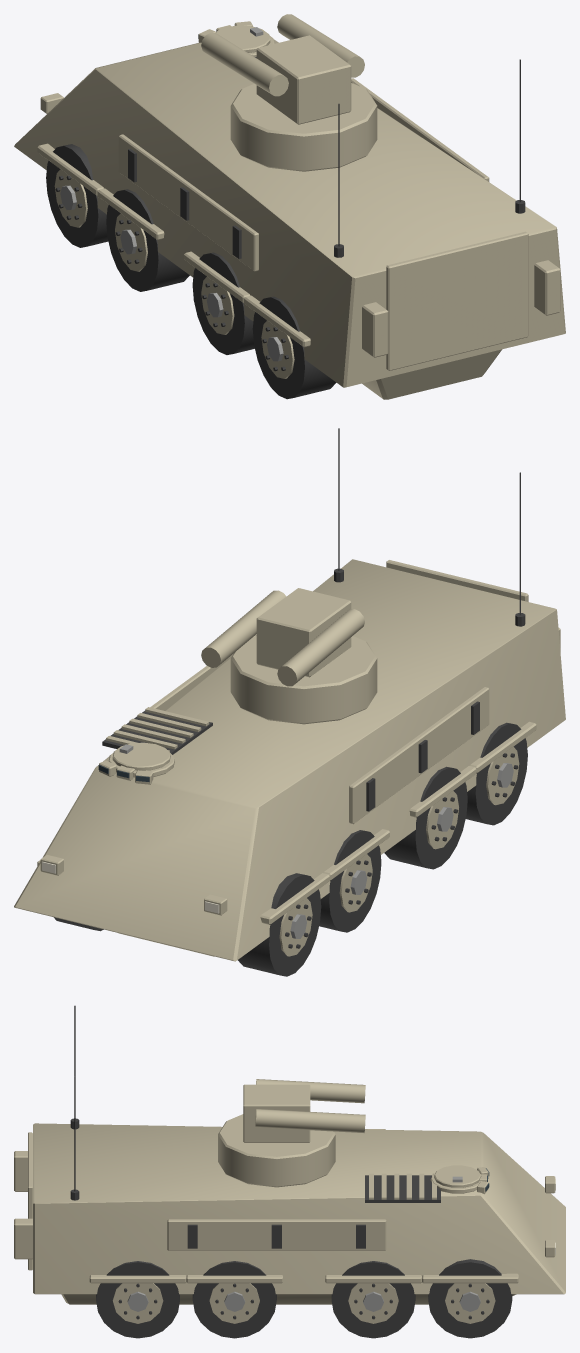
File: usa_td_lavat.glb
The picture shows the model from 3 angles, top to bottom: view 1: azimuth 30°, elevation 25°; view 2: azimuth 150°, elevation 25°; view 3: azimuth 270°, elevation 25°; orthographic projection. The views are drawn at different scales.
Visible parts, largest first — view 1: body, turret, wheel_6, wheel_2, wheel_0, wheel_4, barrel; view 2: body, turret, wheel_0, wheel_4, barrel, wheel_6, wheel_2; view 3: body, turret, wheel_1, wheel_3, wheel_5, wheel_7, barrel.
Part boxes in pixels (x1,y1,x2,y2): body: [14, 21, 565, 399]; turret: [230, 35, 377, 171]; wheel_6: [252, 296, 336, 399]; wheel_2: [106, 189, 189, 291]; wheel_0: [46, 144, 108, 247]; wheel_4: [192, 252, 254, 354]; barrel: [201, 14, 364, 96]; body: [14, 428, 565, 961]; turret: [230, 588, 377, 724]; wheel_0: [238, 873, 321, 976]; wheel_4: [384, 766, 467, 869]; barrel: [201, 590, 364, 686]; wheel_6: [465, 722, 527, 825]; wheel_2: [319, 830, 381, 932]; body: [14, 1005, 565, 1304]; turret: [218, 1084, 335, 1187]; wheel_1: [428, 1259, 512, 1338]; wheel_3: [331, 1261, 415, 1338]; wheel_5: [192, 1261, 276, 1338]; wheel_7: [96, 1261, 179, 1338]; barrel: [255, 1079, 365, 1133].
Size of the model in its own units: 2.66 by 3.33 by 6.56.
